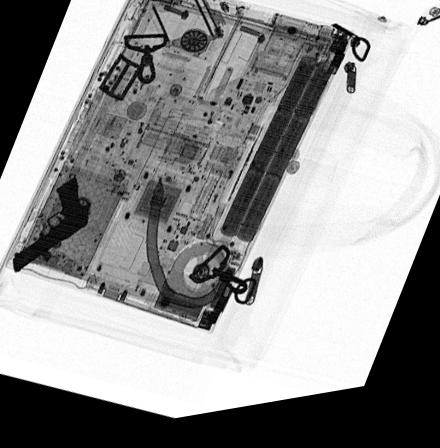Gun: (13, 177, 93, 274)
